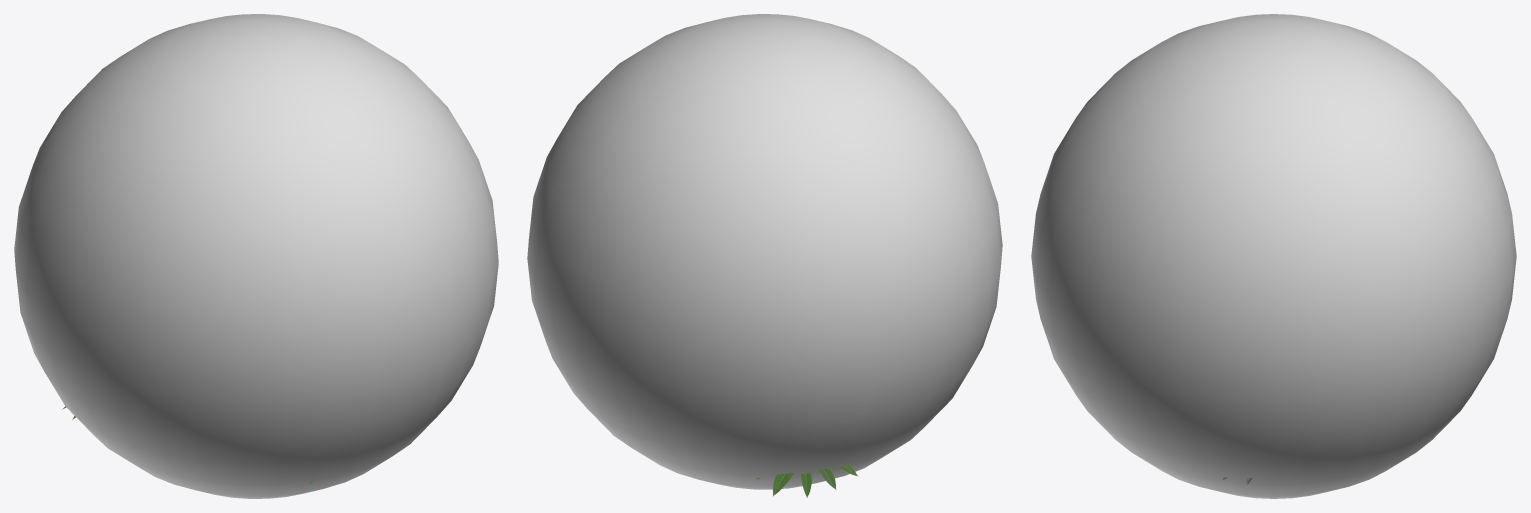
3 views of the same model, side by side, from view 1: azimuth 30°, elevation 25°; view 2: azimuth 150°, elevation 25°; view 3: azimuth 270°, elevation 25° (orthographic).
Parts seen in each view (by area): view 1: Sphere_38; view 2: Sphere_38, Lupinus_polyphyllus_HD_Lupinus leaflet 01_0_28; view 3: Sphere_38.
Boxes of the visible parts, x1,y1,x2,y2 form: Sphere_38: [14, 14, 498, 498]; Sphere_38: [527, 14, 1002, 489]; Lupinus_polyphyllus_HD_Lupinus leaflet 01_0_28: [756, 465, 858, 497]; Sphere_38: [1031, 14, 1516, 498].
Size of the model in its own units: 2.02 by 2.02 by 2.02.
Materials: 35 (34 with a texture image).
